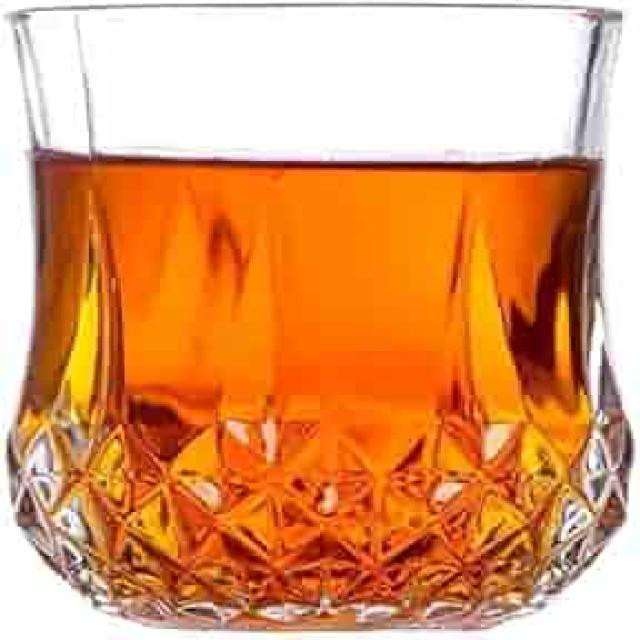glass: (8, 1, 635, 632)
